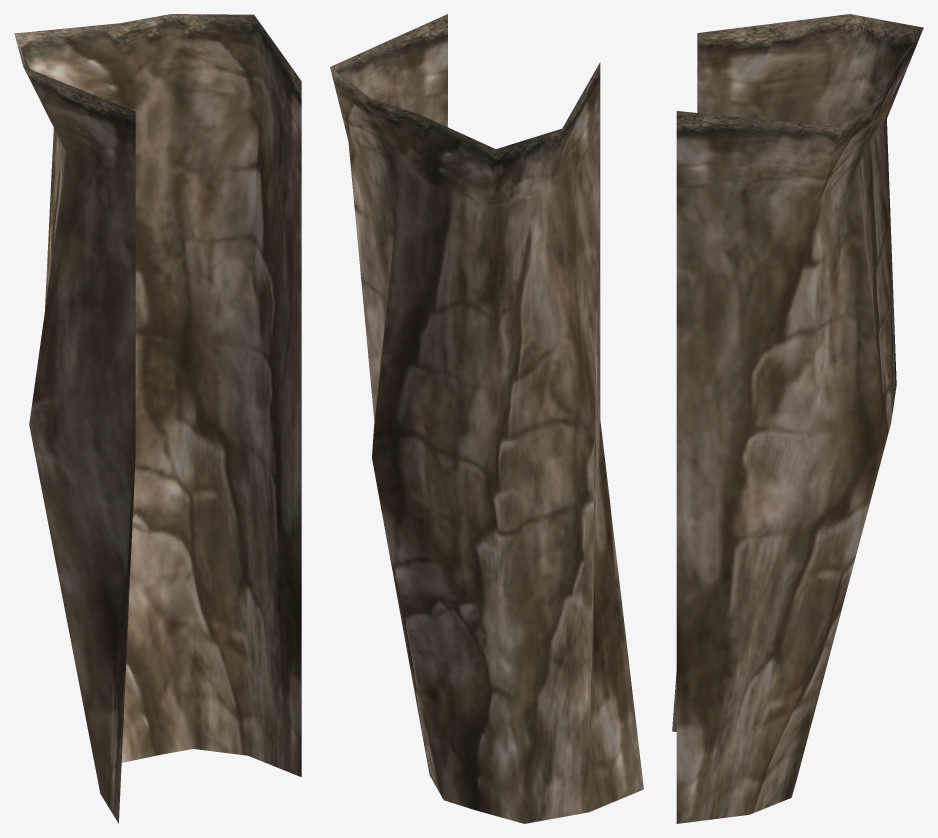
The model's file is OVERHILL_A_01_LINE30.fbx.
The picture shows the model from 3 angles, left to right: view 1: azimuth 30°, elevation 25°; view 2: azimuth 150°, elevation 25°; view 3: azimuth 270°, elevation 25°; orthographic projection. The views are drawn at different scales.
Visible parts, largest first — view 1: OVERHILL_A_01_LINE30; view 2: OVERHILL_A_01_LINE30; view 3: OVERHILL_A_01_LINE30.
Boxes of the visible parts, left/top/right/bottom form: OVERHILL_A_01_LINE30: left=14, top=14, right=301, bottom=823; OVERHILL_A_01_LINE30: left=330, top=14, right=643, bottom=823; OVERHILL_A_01_LINE30: left=672, top=14, right=923, bottom=823.
Size of the model in its own units: 29872 by 83400 by 26680.
2 materials, 2 textured.
